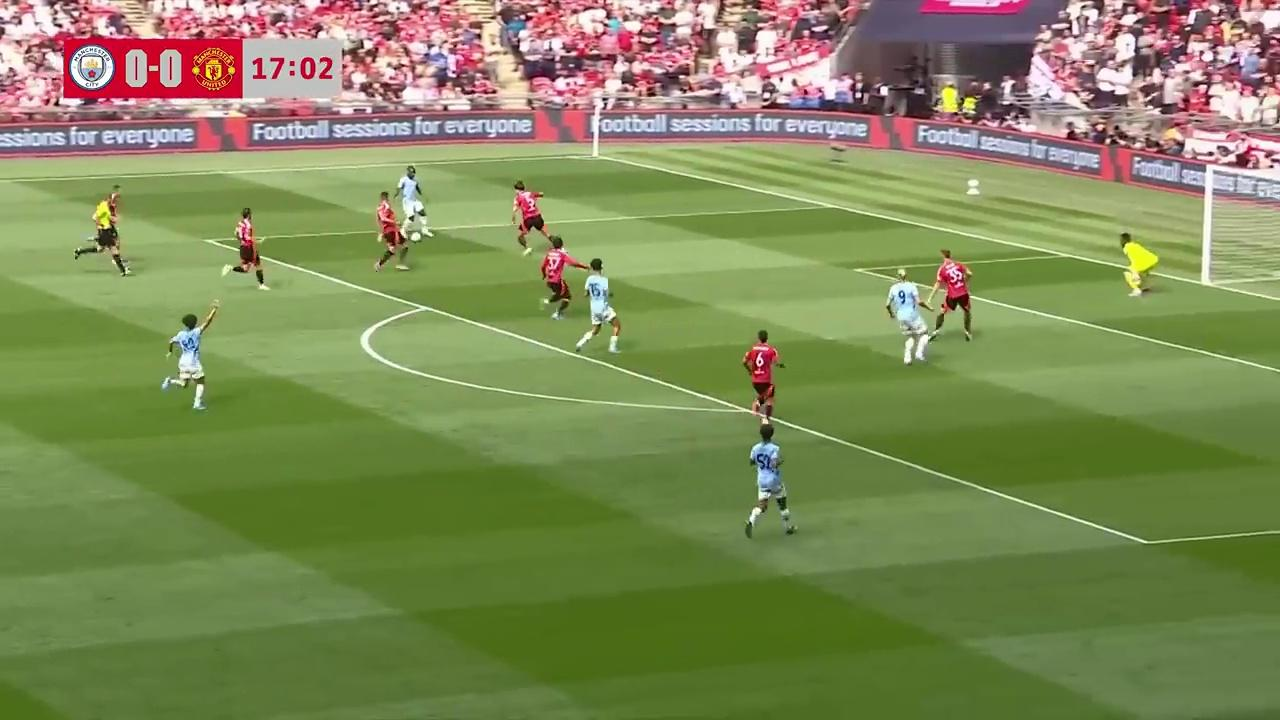ball: (410, 227, 422, 242)
player: (743, 422, 797, 539), (160, 316, 219, 410), (575, 258, 620, 355), (886, 276, 931, 366), (930, 249, 974, 340), (742, 330, 785, 421), (227, 207, 269, 289), (539, 237, 578, 319), (511, 182, 551, 256), (394, 165, 433, 239), (374, 193, 409, 272), (1119, 232, 1156, 298), (106, 187, 126, 233)
referee: (73, 203, 123, 277)
